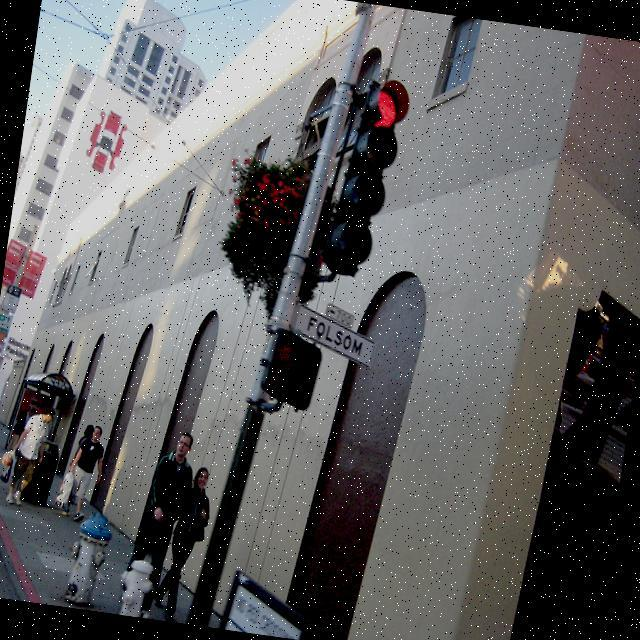fire_hydrant: (61, 506, 116, 607), (113, 556, 160, 619)
